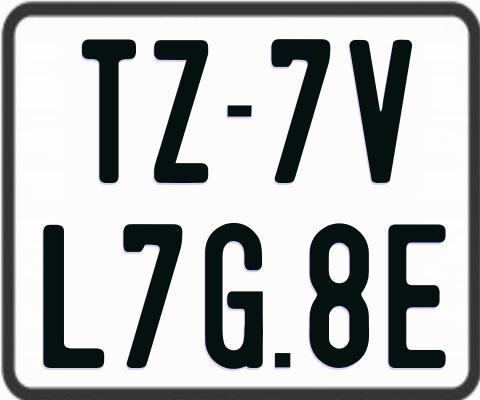7: (270, 37, 335, 186), (123, 223, 187, 373)
8: (309, 222, 369, 372)
E: (387, 223, 446, 367)
G: (202, 223, 260, 372)
L: (41, 224, 102, 373)
T: (82, 38, 141, 184)
V: (347, 40, 413, 185)
Z: (152, 40, 209, 186)
